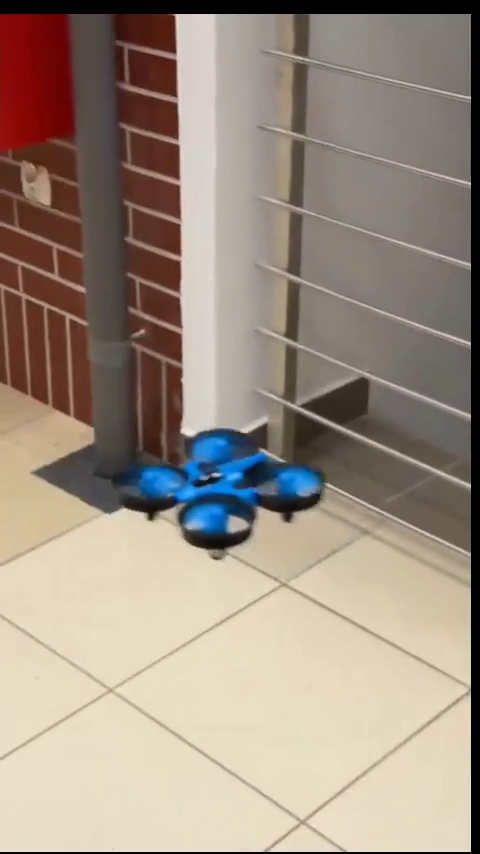drone: (115, 425, 325, 558)
